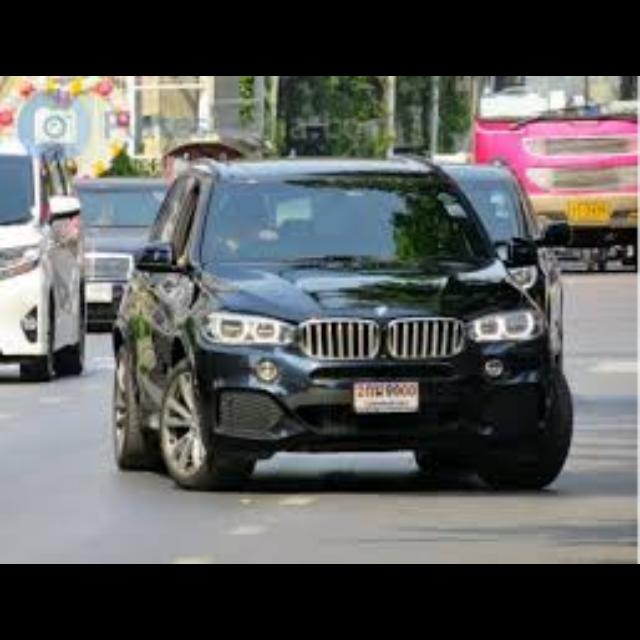licenseplate: (351, 378, 422, 414)
